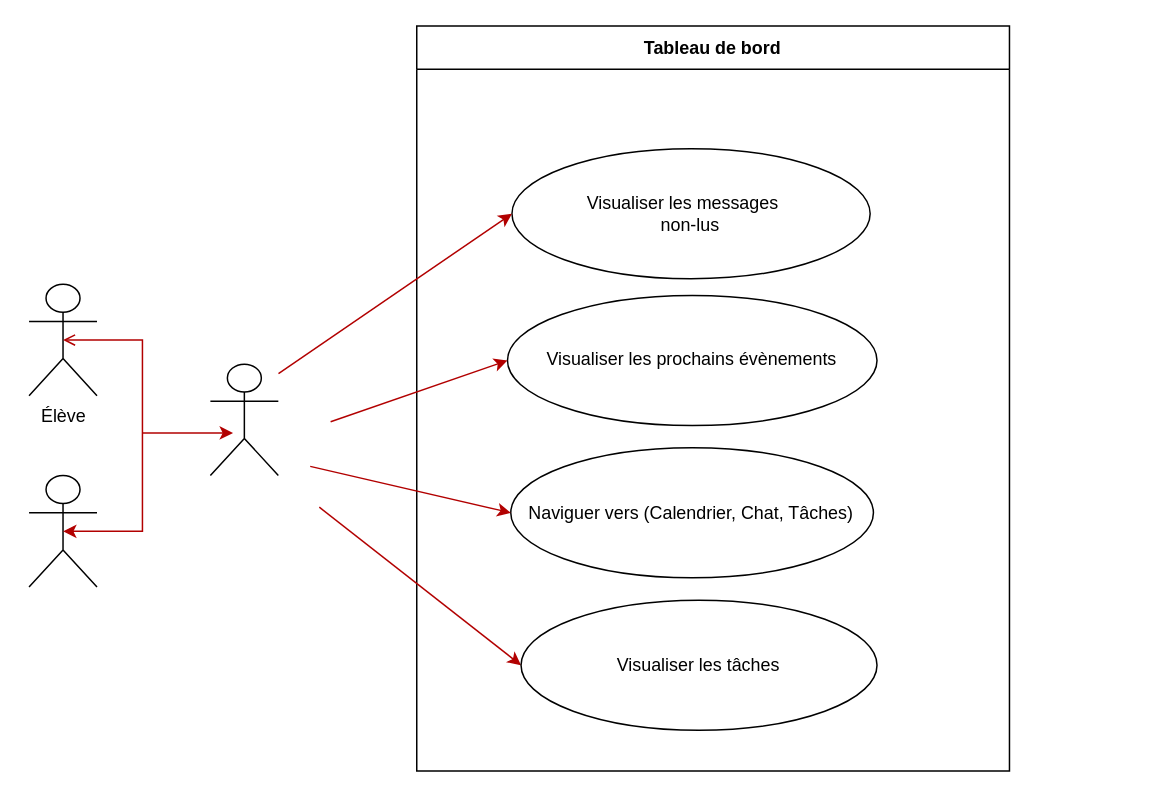
The diagram is 1168 pixels wide and 797 high, and some of its shapes have lost their labels. The shapes that lost their labels are listed below. From the top down, each one's centre as x and y in pixels, then its label:
At (x=243, y=419): "Utilisateur".
At (x=62, y=530): "Bénévole".
